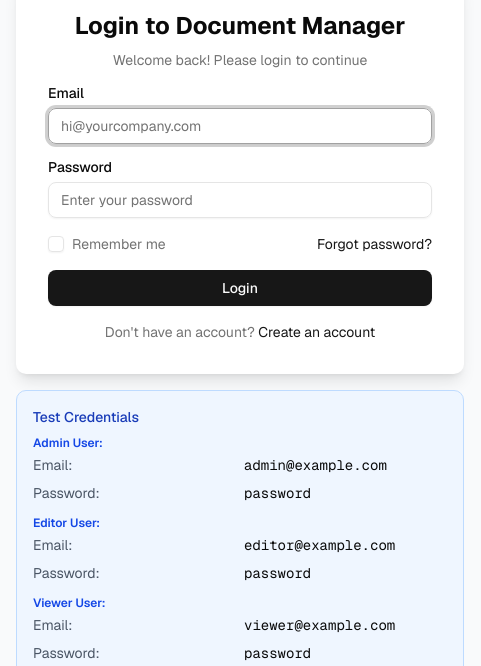
Test: LoginPage › shows error state for invalid email format
The width and height of the screenshot is (481, 666).
// Fill in form with invalid email
Type "invalid-email" into the field labelled "Email". click: x=240, y=126
box: [48,108,432,144]
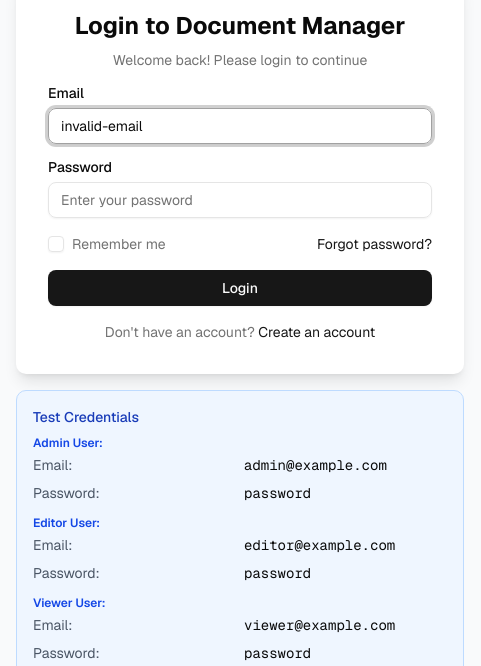
Type "password" into the password field labelled "Password". click: x=240, y=200
box: [48,182,432,218]
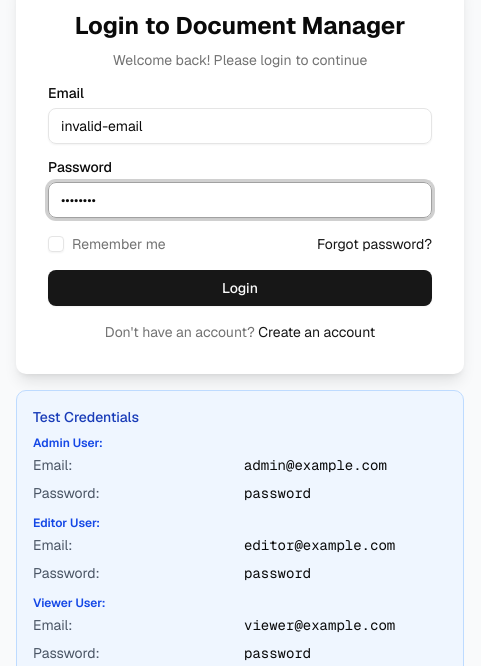
// Submit the form
Click the button "Login". click: x=240, y=288
box: [48,270,432,306]
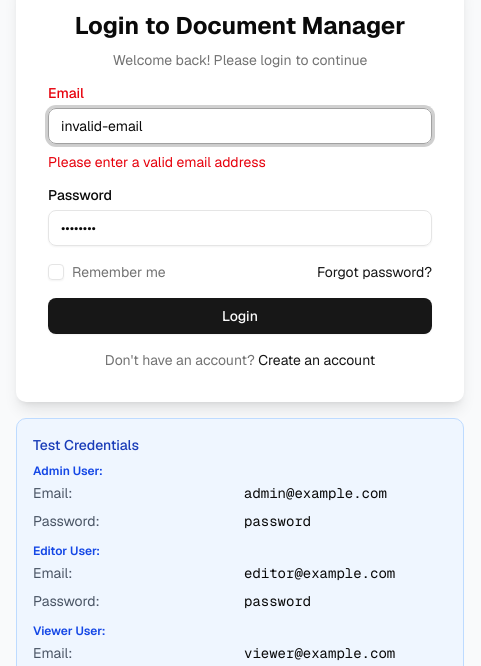
expect the text "Please enter a valid email address" is shown: met, box [48,153,266,171]
